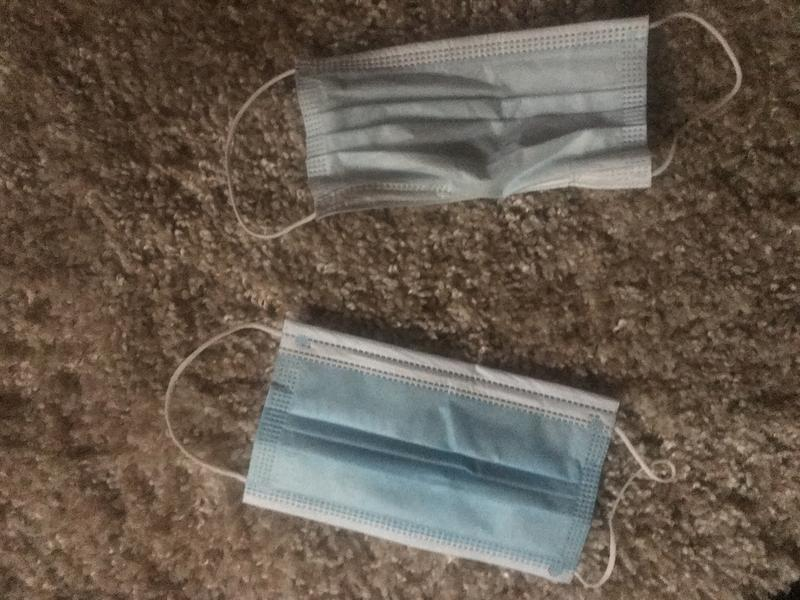medical_mask: (167, 316, 674, 592), (222, 14, 743, 243)
